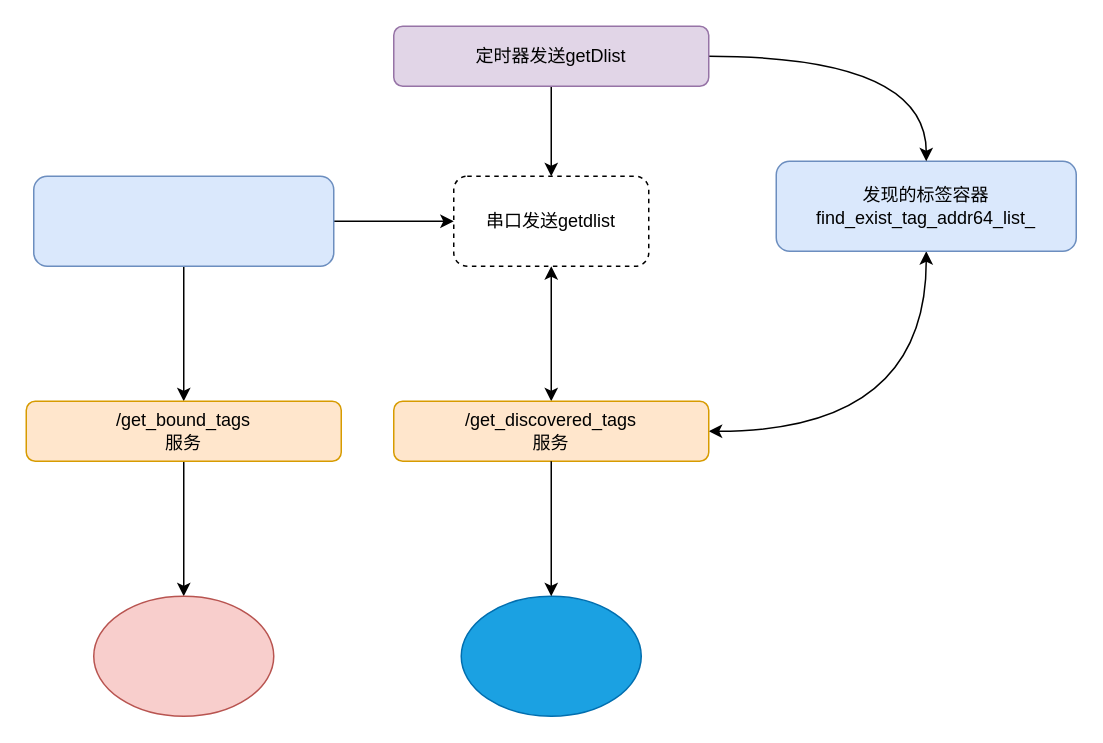
The diagram is 1103 pixels wide and 743 high, and some of its shapes have lost their labels. Here are the shapes that lost their labels. From the top down, the box of each, then its label:
(32, 175, 334, 266): 已经绑定的标签 tag_addr64_list_
(92, 595, 274, 716): 获取了已经绑定的标签
(460, 595, 641, 716): 获取了已经发现的列表
